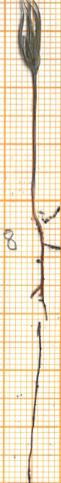flower: (11, 0, 52, 74)
root: (23, 218, 61, 483)
stem: (25, 75, 43, 219)
